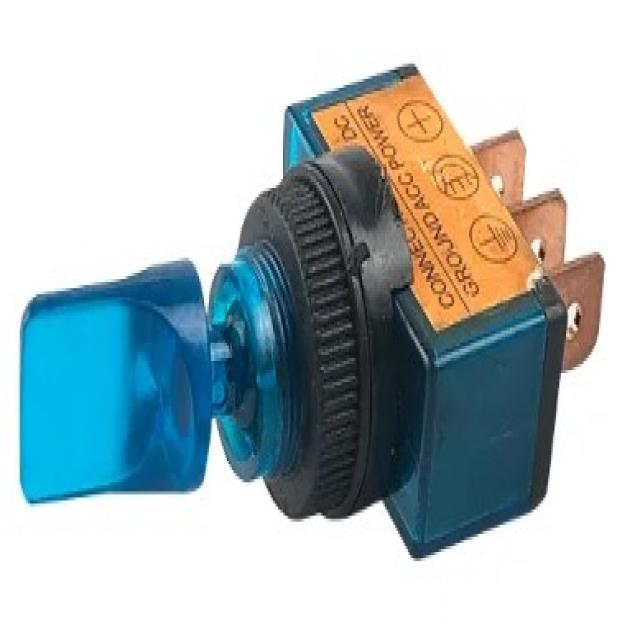toggle switch: (19, 140, 415, 524)
